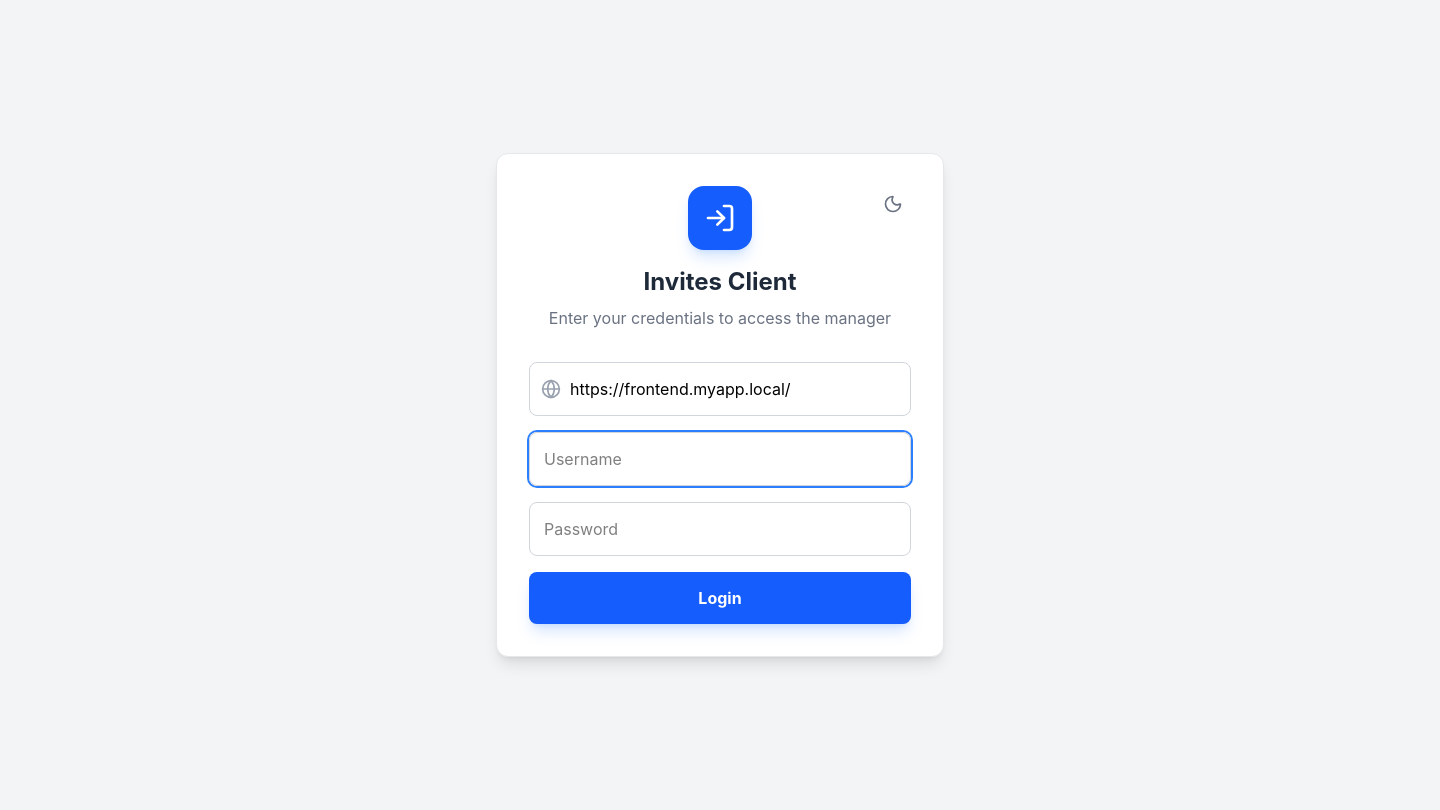
login flow › returns to login when OTP setup is cancelled
In the field with placeholder "Username": (720, 459) [529,432,911,486], type "newuser"
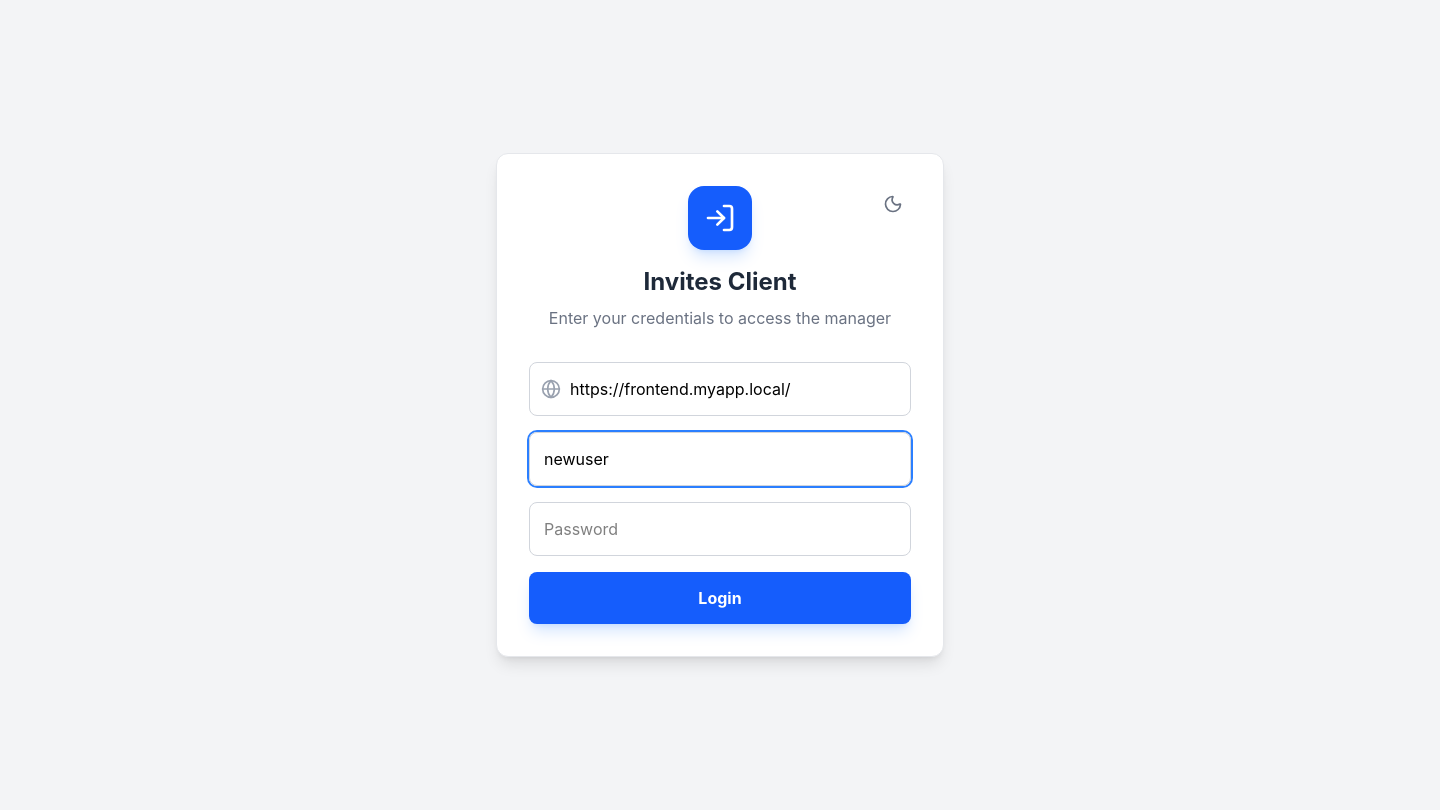
In the password field with placeholder "Password": (720, 529) [529,502,911,556], type "pw"
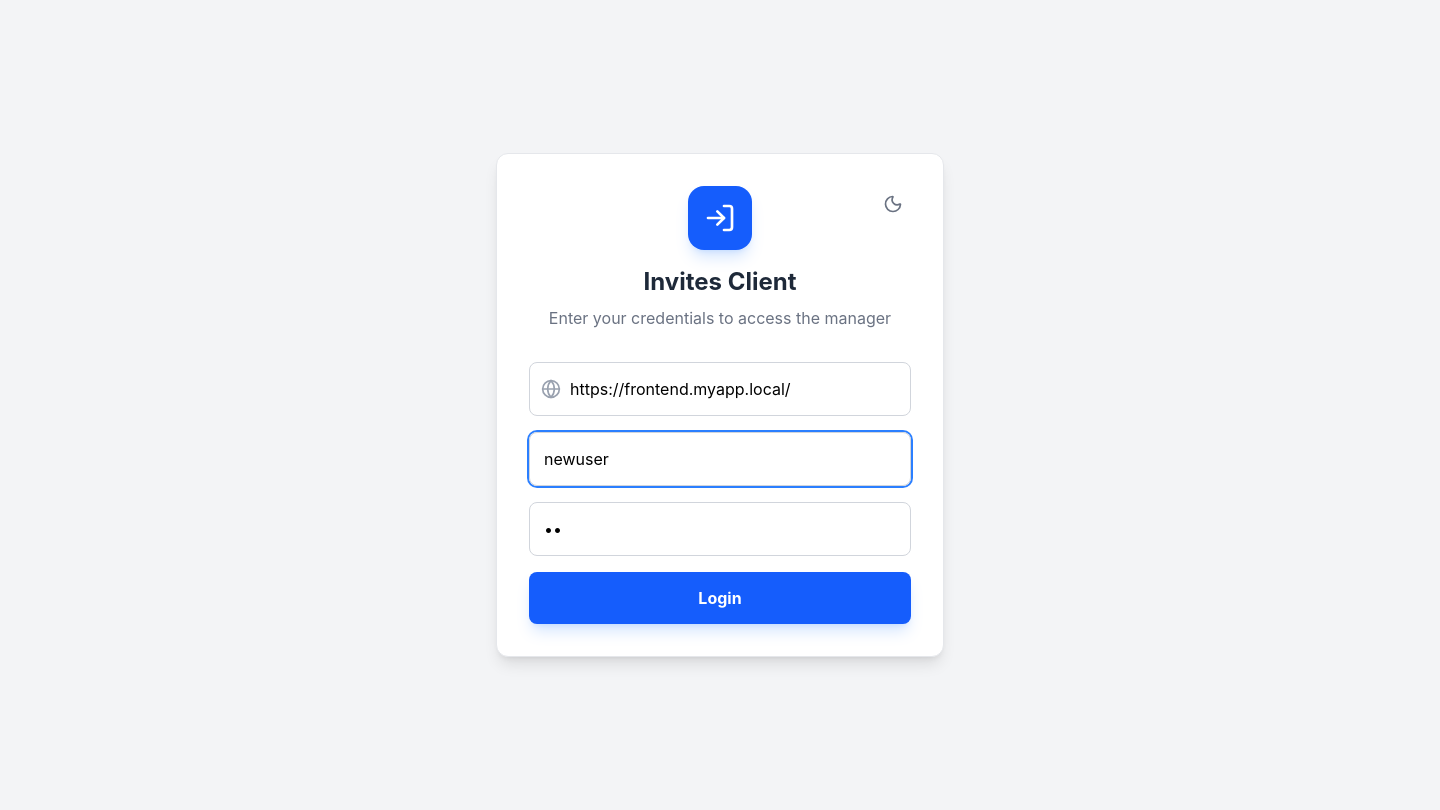
Click the button "Login": (720, 598) [529,572,911,624]
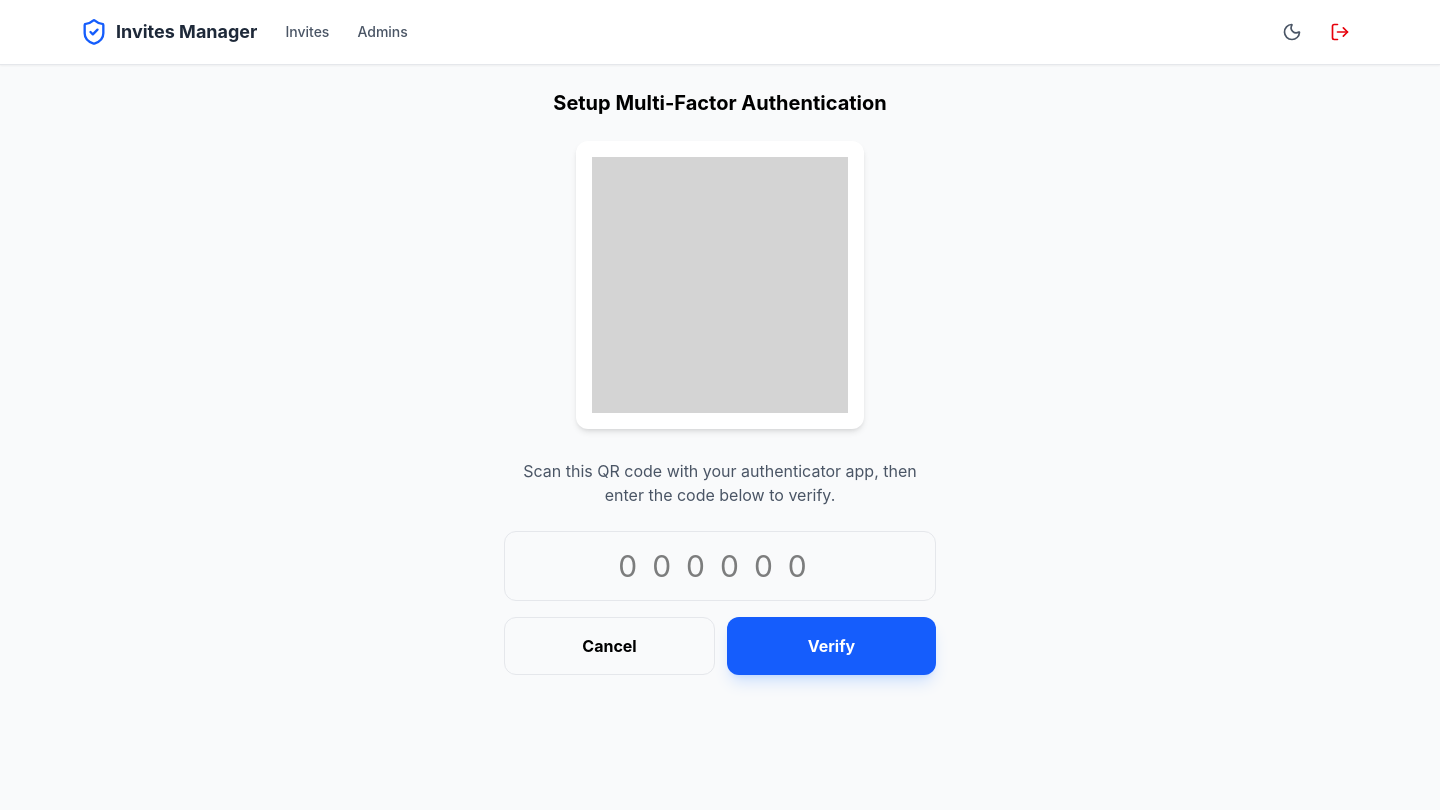
Result: the heading "Setup Multi-Factor Authentication" is shown at [553,91,887,115]
Click the button "Cancel": (610, 646) [504,617,715,675]
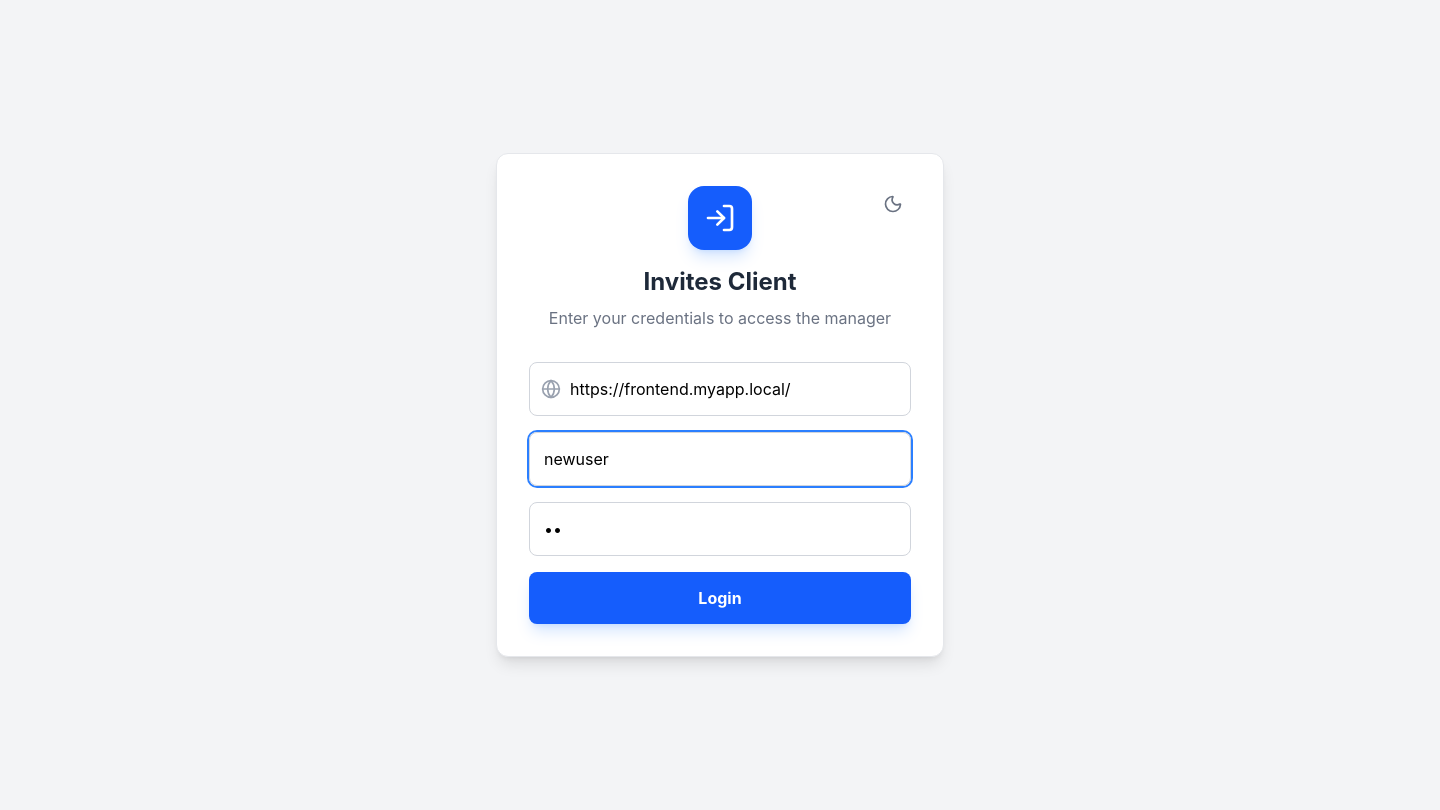
Result: the 2nd field with placeholder "Username" is shown at [529,432,911,486]
